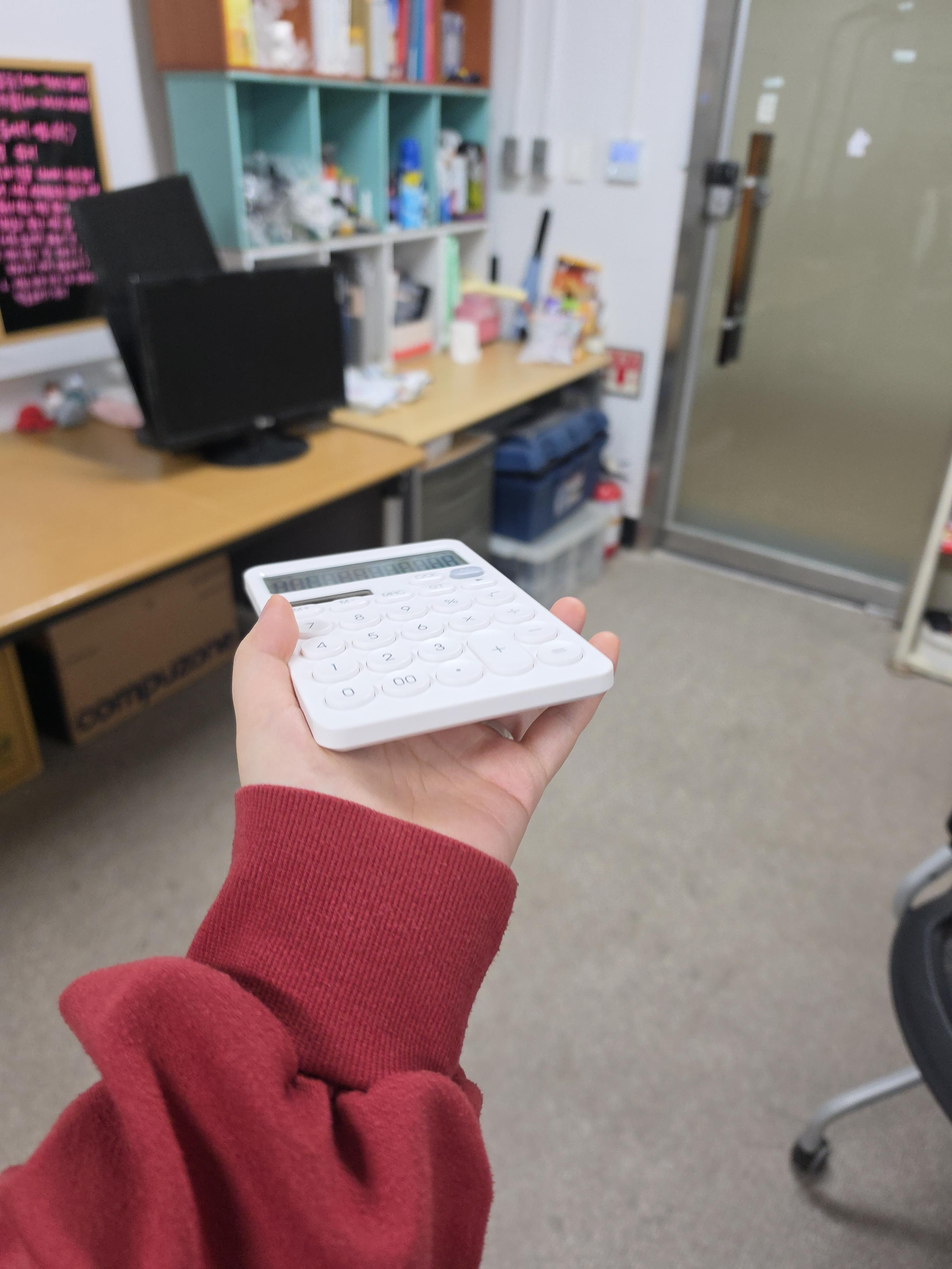calculator: (243, 538, 615, 751)
